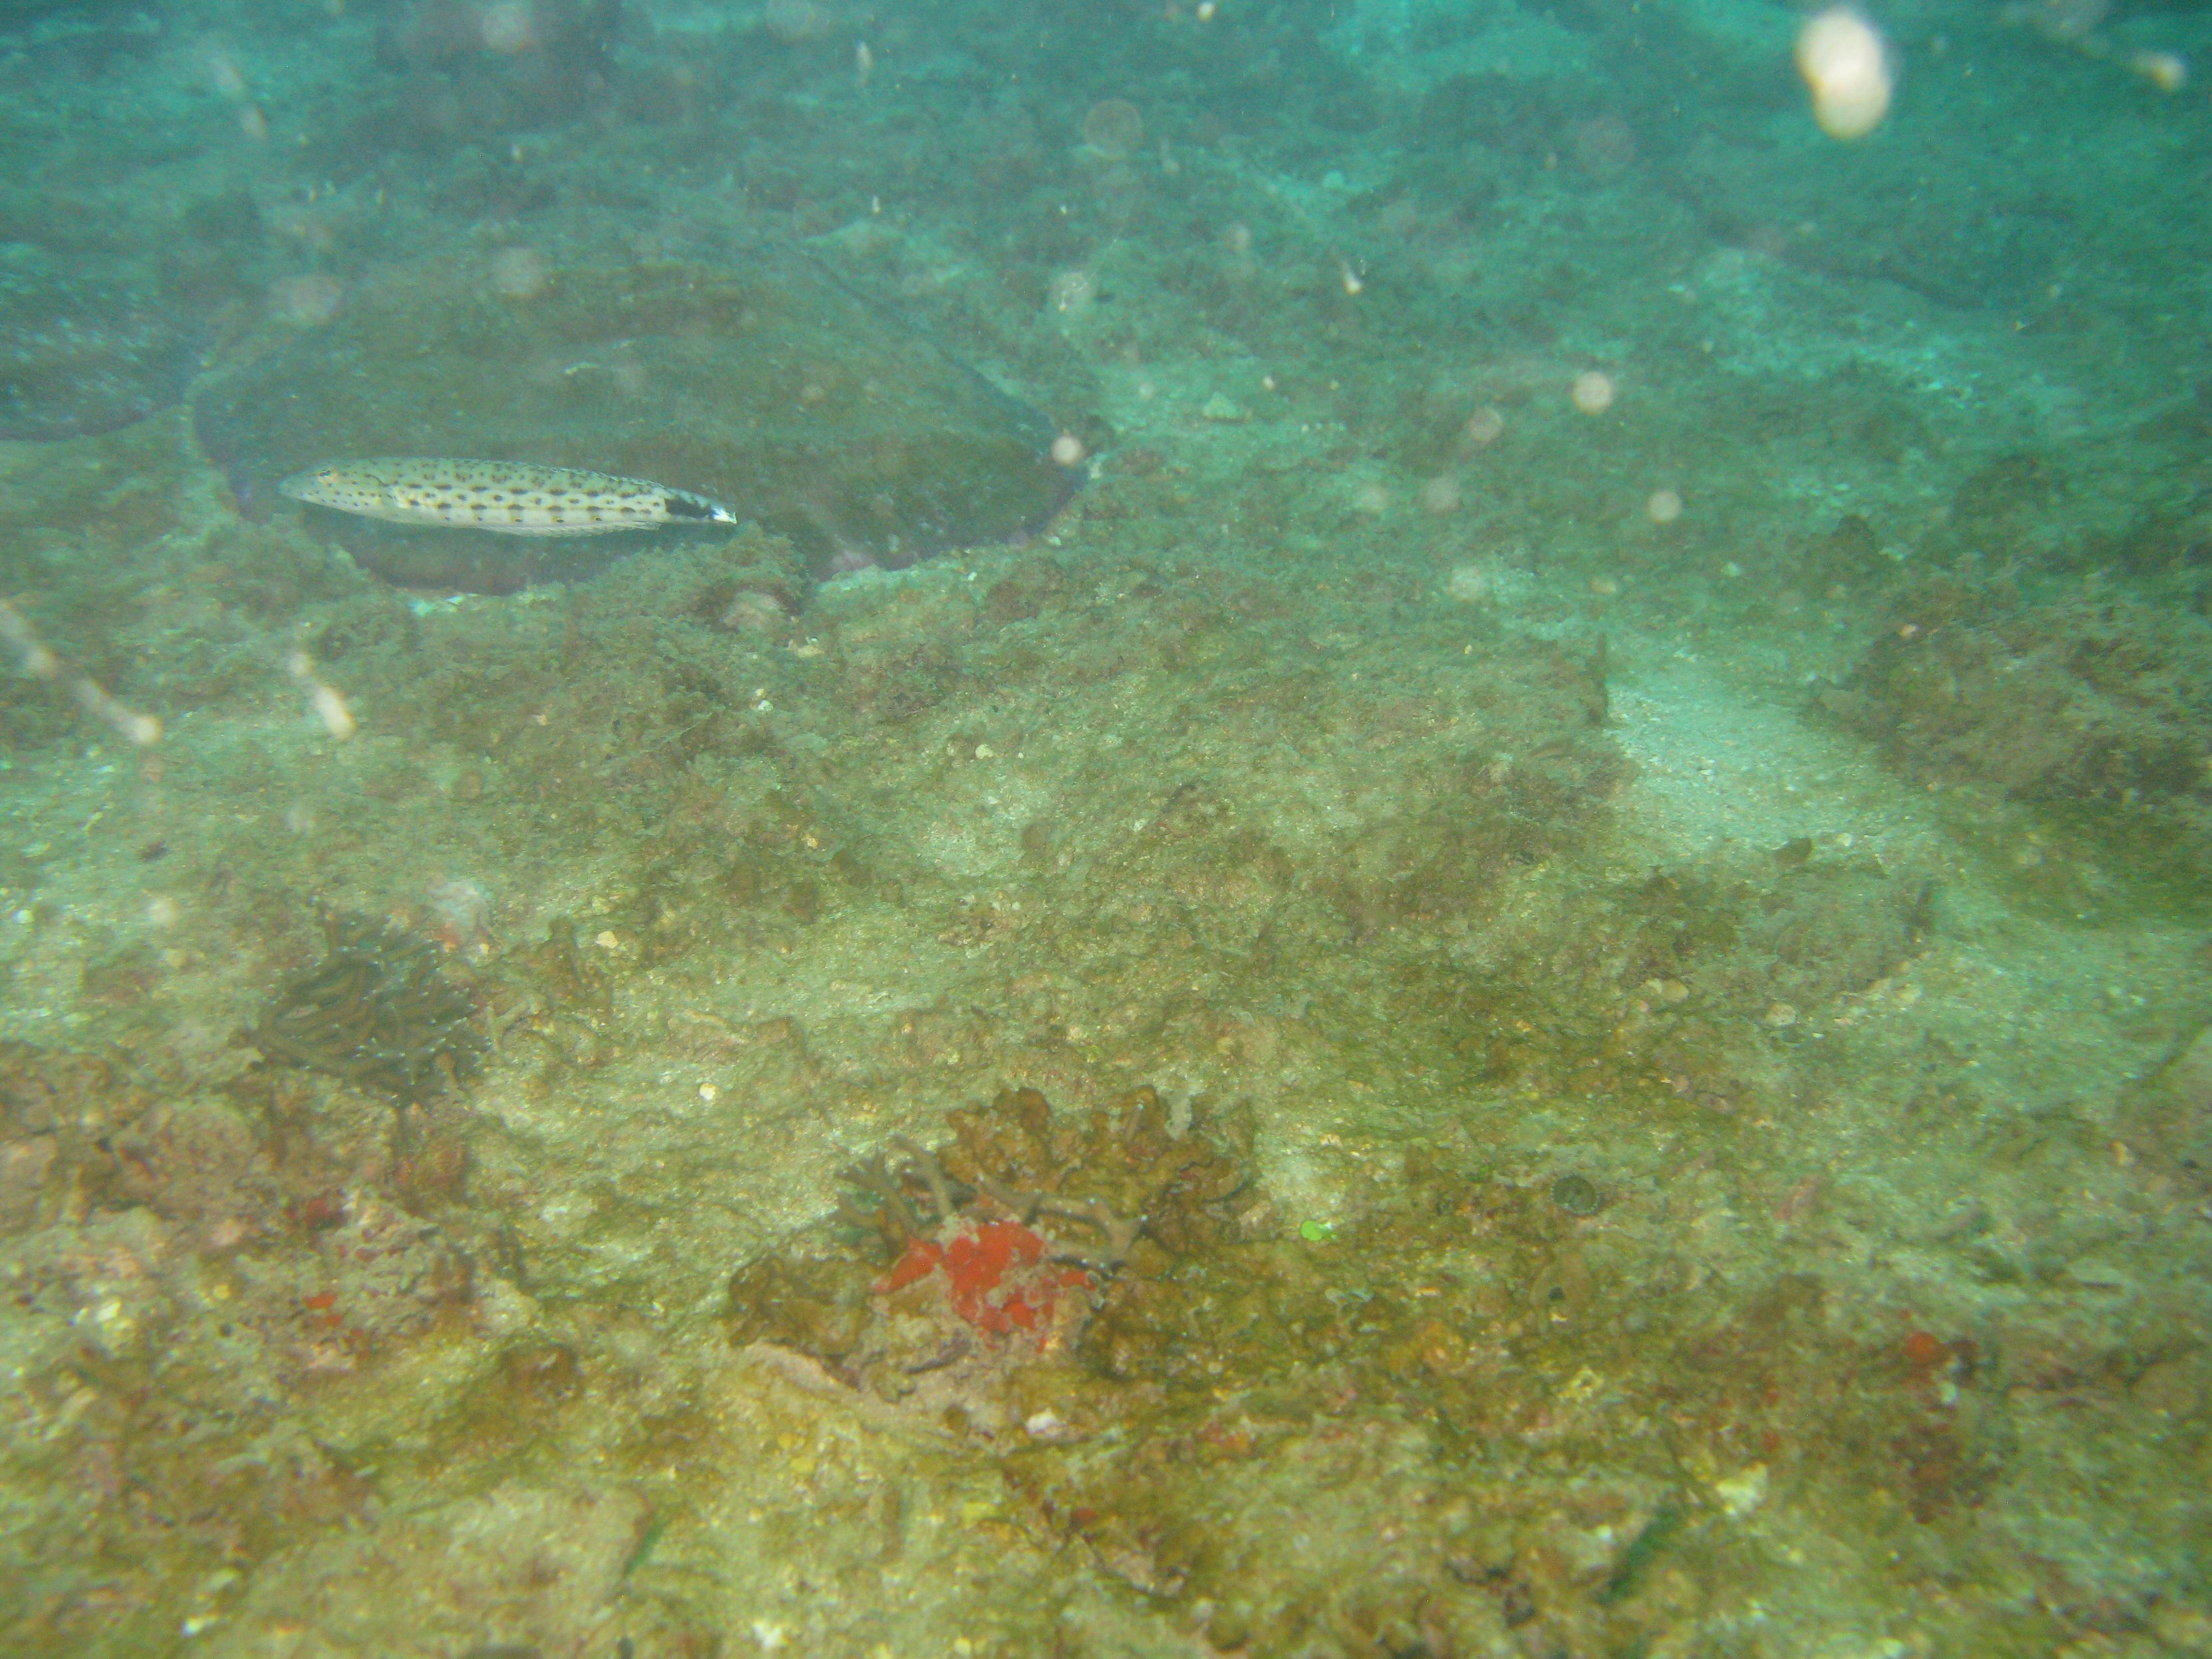Fish: (211, 418, 752, 599)
